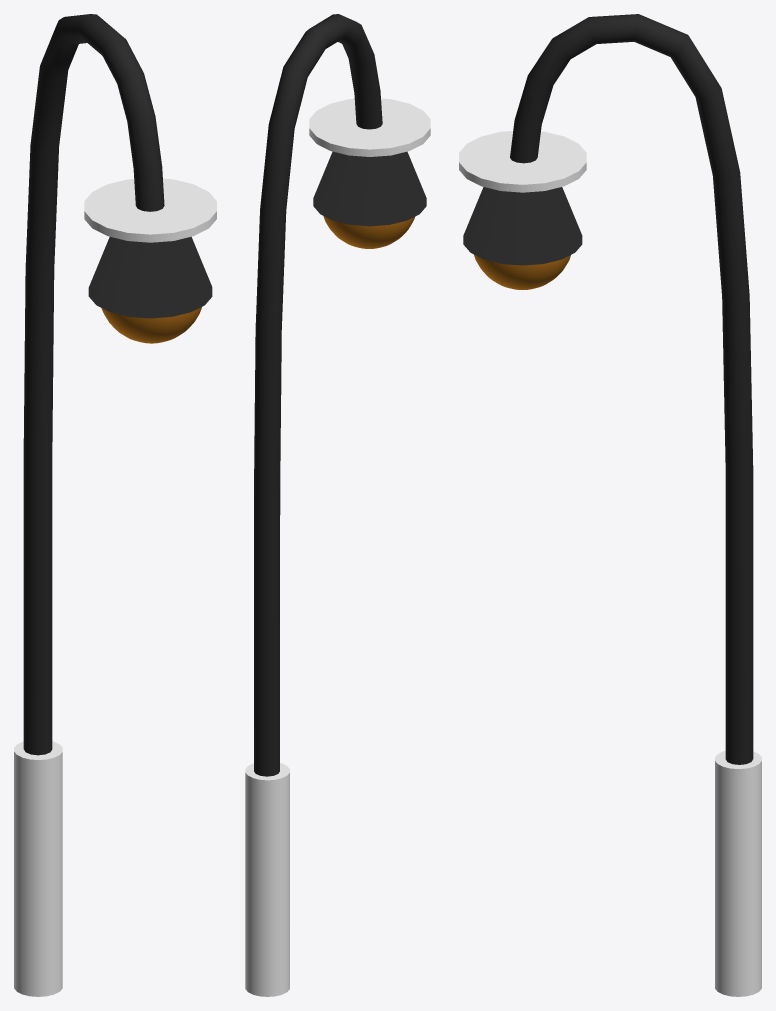
The picture shows the model from 3 angles, left to right: view 1: azimuth 30°, elevation 25°; view 2: azimuth 150°, elevation 25°; view 3: azimuth 270°, elevation 25°; orthographic projection. The views are drawn at different scales.
Parts seen in each view (by area): view 1: Line003, Cylinder006, Cylinder004, Cylinder005, Sphere002; view 2: Line003, Cylinder006, Cylinder004, Cylinder005, Sphere002; view 3: Line003, Cylinder006, Cylinder004, Cylinder005, Sphere002.
Boxes of the visible parts, bbox=[...] form: Line003: bbox=[23, 14, 164, 755]; Cylinder006: bbox=[14, 741, 62, 996]; Cylinder004: bbox=[88, 236, 212, 318]; Cylinder005: bbox=[84, 178, 216, 242]; Sphere002: bbox=[101, 307, 201, 343]; Line003: bbox=[254, 14, 382, 776]; Cylinder006: bbox=[245, 763, 289, 996]; Cylinder004: bbox=[313, 151, 426, 226]; Cylinder005: bbox=[309, 98, 430, 156]; Sphere002: bbox=[323, 216, 414, 248]; Line003: bbox=[510, 14, 753, 764]; Cylinder006: bbox=[715, 751, 761, 996]; Cylinder004: bbox=[463, 187, 582, 265]; Cylinder005: bbox=[459, 131, 586, 192]; Sphere002: bbox=[474, 254, 570, 289].
Bounding box in the file's own units: 10435 × 86399 × 24400.
